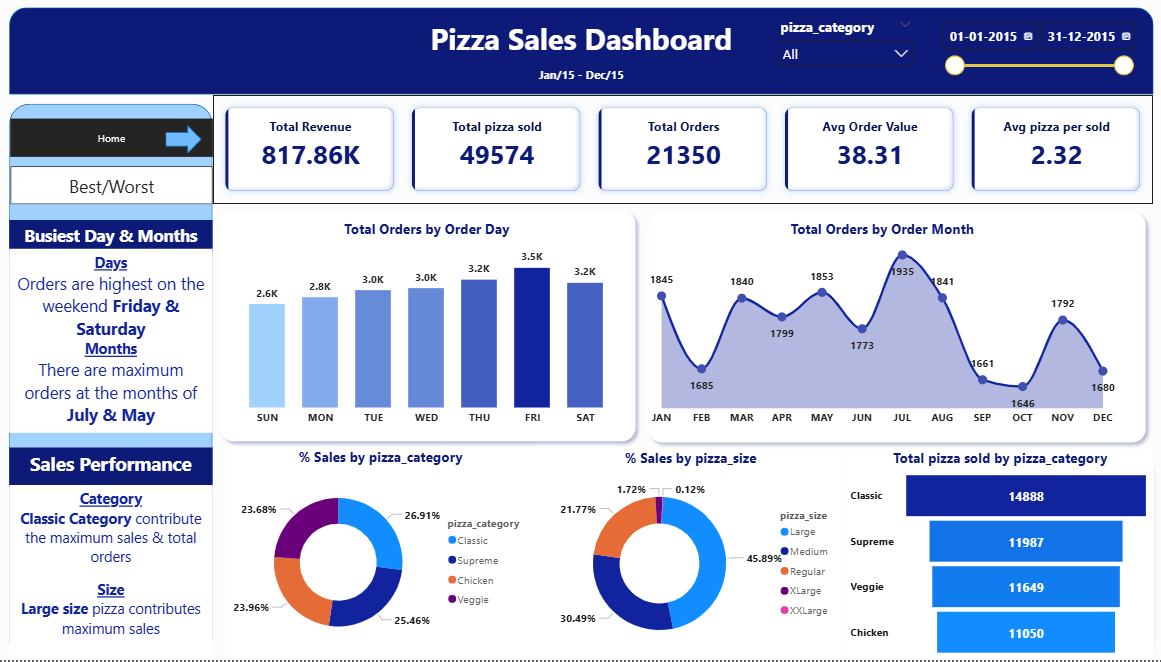

Layout of this report page (visuals, bound fields, positions):
{"tool":"powerbi","page":{"name":"Home","canvas":[1500,850],"ordinal":0},"visuals":[{"type":"cardVisual","fields":{"Data":["pizza_sales.Total Revenue","pizza_sales.Total pizza sold","pizza_sales.Total Orders","pizza_sales.Avg Order Value","pizza_sales.Avg pizza per sold"]},"box":[276.3,121.8,1209.9,140.3],"z":0},{"type":"shape","box":[276.3,262.1,552.5,314.5],"z":1000},{"type":"clusteredColumnChart","fields":{"Y":["pizza_sales.Total Revenue"],"Category":["pizza_sales.Order Day"]},"box":[291.8,283.3,521.4,273.4],"z":2000},{"type":"shape","box":[14.2,9.9,1472,111.9],"z":3000},{"type":"textbox","box":[14.2,19.8,1472,60.9],"z":4000},{"type":"textbox","box":[14.2,80.8,1472,41.1],"z":5000},{"type":"shape","box":[828.8,263.5,657.4,314.5],"z":6000},{"type":"areaChart","fields":{"Category":["pizza_sales.Order Month"],"Y":["pizza_sales.Total Revenue"]},"box":[828.8,283.3,619.1,273.4],"z":7000},{"type":"shape","box":[292.2,577.1,400,273.2],"z":8000},{"type":"shape","box":[691.7,577.1,399.4,273.2],"z":9000},{"type":"shape","box":[1091.1,577.1,400,273.2],"z":10000},{"type":"shape","box":[14.7,133.6,261.4,716.7],"z":11000},{"type":"donutChart","title":"% Sales by pizza_category","fields":{"Y":["pizza_sales.Total Revenue"],"Category":["pizza_sales.pizza_category"]},"box":[292.2,575.7,399.4,273.2],"z":12000},{"type":"donutChart","title":"% Sales by pizza_size","fields":{"Y":["pizza_sales.Total Revenue"],"Category":["pizza_sales.pizza_size"]},"box":[691.7,577.1,399.4,273.2],"z":13000},{"type":"funnel","fields":{"Category":["pizza_sales.pizza_category"],"Y":["pizza_sales.Total pizza sold"]},"box":[1091.1,577.1,395,273.2],"z":14000},{"type":"textbox","box":[14.7,283.4,261.4,42.6],"z":15000},{"type":"textbox","box":[14.7,320.1,261.4,236.4],"z":16000},{"type":"textbox","box":[14.7,575.7,261.4,48.5],"z":17000},{"type":"textbox","box":[14.7,624.1,261.4,226.2],"z":18000},{"type":"pageNavigator","box":[16.1,152.8,260.5,49.9],"z":18001},{"type":"pageNavigator","box":[16.1,213.9,260.5,49.9],"z":18002},{"type":"shape","box":[215.5,160.8,46.6,37],"z":18003},{"type":"slicer","fields":{"Values":["pizza_sales.pizza_category"]},"box":[993.8,17.7,193,104.5],"z":18004},{"type":"slicer","fields":{"Values":["pizza_sales.order_date"]},"box":[1202.8,17.7,266.9,104.5],"z":18005}]}

Visuals, with their boxes in screenshot pixels (x1, y1, x2, y2), scaled from the page's 1500x850 canvas onto the 1161x662 screenshot:
cardVisual - pizza_sales.Total Revenue x pizza_sales.Total pizza sold: Rect(214, 95, 1150, 204)
shape: Rect(214, 204, 641, 449)
clusteredColumnChart - pizza_sales.Total Revenue x pizza_sales.Order Day: Rect(226, 221, 629, 434)
shape: Rect(11, 8, 1150, 95)
textbox: Rect(11, 15, 1150, 63)
textbox: Rect(11, 63, 1150, 95)
shape: Rect(641, 205, 1150, 450)
areaChart - pizza_sales.Order Month x pizza_sales.Total Revenue: Rect(641, 221, 1121, 434)
shape: Rect(226, 449, 536, 661)
shape: Rect(535, 449, 845, 661)
shape: Rect(845, 449, 1154, 661)
shape: Rect(11, 104, 214, 661)
"% Sales by pizza_category" donutChart: Rect(226, 448, 535, 661)
"% Sales by pizza_size" donutChart: Rect(535, 449, 845, 661)
funnel - pizza_sales.pizza_category x pizza_sales.Total pizza sold: Rect(845, 449, 1150, 661)
textbox: Rect(11, 221, 214, 254)
textbox: Rect(11, 249, 214, 433)
textbox: Rect(11, 448, 214, 486)
textbox: Rect(11, 486, 214, 661)
pageNavigator: Rect(12, 119, 214, 158)
pageNavigator: Rect(12, 167, 214, 205)
shape: Rect(167, 125, 203, 154)
slicer - pizza_sales.pizza_category: Rect(769, 14, 919, 95)
slicer - pizza_sales.order_date: Rect(931, 14, 1138, 95)
